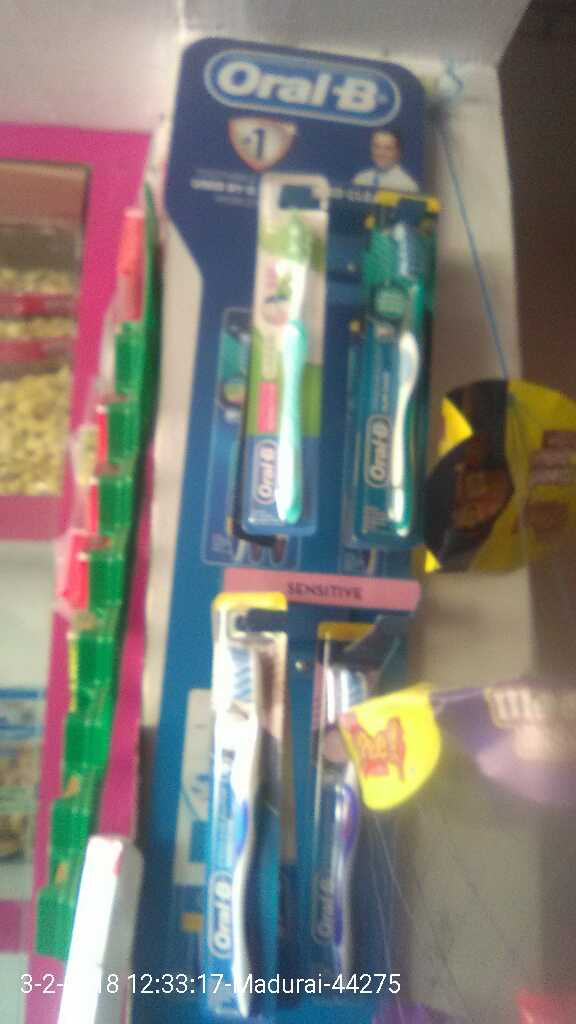oralb: (207, 619, 274, 1019), (307, 632, 380, 989), (250, 177, 320, 523), (365, 199, 429, 544)
